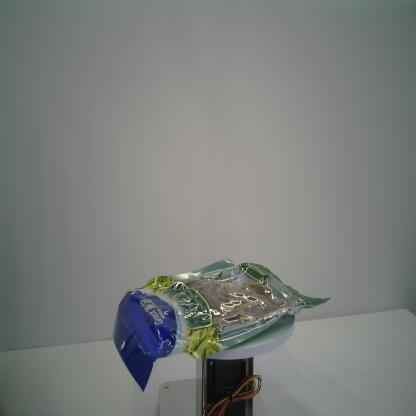Dried Food: (112, 256, 332, 394)
